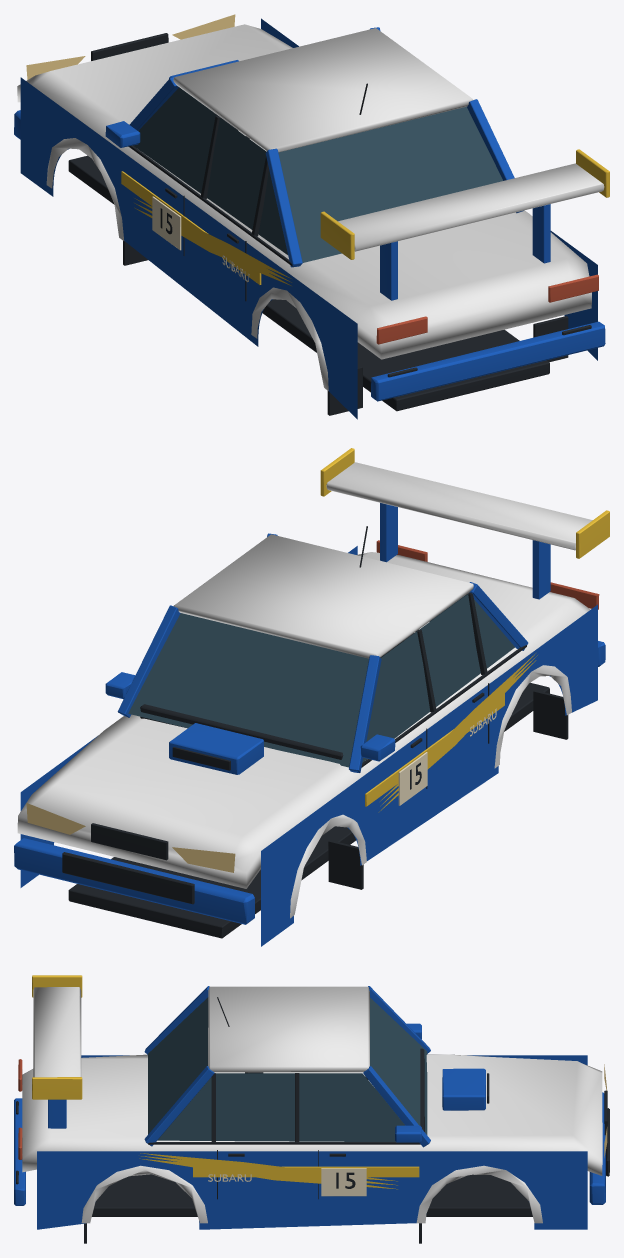
File: WRX-lod2.glb
3 views of the same model, one above another, from view 1: azimuth 30°, elevation 25°; view 2: azimuth 150°, elevation 25°; view 3: azimuth 270°, elevation 25° (orthographic). The views are drawn at different scales.
Parts seen in each view (by area): view 1: Outline_Body, paint, glass, ink, accent, BrakeLamp, lamp, ivory; view 2: Outline_Body, paint, glass, ink, accent, lamp, ivory, BrakeLamp; view 3: Outline_Body, paint, glass, ink, accent, ivory.
Boxes of the visible parts, x1,y1,x2,y2 form: Outline_Body: (17, 24, 604, 390); paint: (14, 18, 605, 419); glass: (133, 87, 503, 262); ink: (68, 33, 591, 415); accent: (121, 149, 609, 285); BrakeLamp: (376, 274, 598, 344); lamp: (26, 14, 235, 79); ivory: (152, 196, 249, 282); Outline_Body: (17, 462, 592, 918); paint: (14, 503, 605, 946); glass: (128, 593, 514, 767); ink: (62, 526, 568, 938); accent: (320, 448, 609, 812); lamp: (26, 803, 235, 872); ivory: (398, 708, 496, 805); BrakeLamp: (376, 540, 599, 609); Outline_Body: (22, 986, 602, 1223); paint: (14, 986, 605, 1229); glass: (148, 997, 427, 1141); ink: (16, 997, 609, 1243); accent: (32, 975, 419, 1189); ivory: (208, 1168, 366, 1196).
Size of the model in its own units: 2.06 by 1.74 by 4.71.
